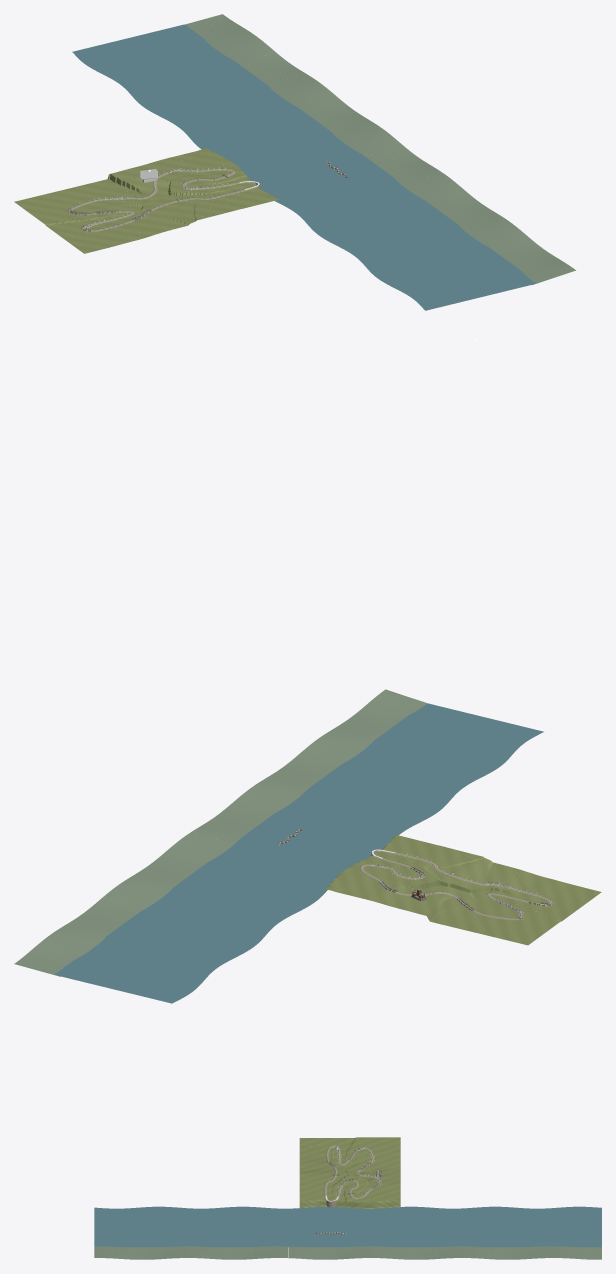
File: quebec.glb
3 views of the same model, one above another, from view 1: azimuth 30°, elevation 25°; view 2: azimuth 150°, elevation 25°; view 3: azimuth 270°, elevation 25° (orthographic). The views are drawn at different scales.
Parts seen in each view (by area): view 1: SaintLawrence, Land_003, Land_010, Land_011, Land_004, Land_005, Land_008, Land_013, Land_001, Land_006, Land_012, Land_009 (+3 smaller); view 2: SaintLawrence, Land_003, Land_010, Land_011, Land_004, Land_005, Land_008, Land_013, Land_001, Land_006, Land_009, Land_002 (+2 smaller); view 3: SaintLawrence, Land_003, Land_010, Land_011, Land_005, Land_004, Land_008, Land_001, Land_013, Land_006, Land_012, Land_009 (+3 smaller).
Part boxes in pixels (x1,y1,x2,y2): SaintLawrence: (72, 24, 535, 310); Land_003: (184, 14, 380, 184); Land_010: (173, 15, 382, 185); Land_011: (169, 129, 575, 284); Land_004: (168, 134, 492, 221); Land_005: (163, 185, 565, 275); Land_008: (14, 175, 130, 225); Land_013: (49, 203, 186, 253); Land_001: (15, 177, 118, 224); Land_006: (76, 198, 190, 251); Land_012: (150, 186, 271, 224); Land_009: (111, 151, 199, 205); SaintLawrence: (54, 703, 543, 1003); Land_003: (14, 839, 408, 976); Land_010: (16, 838, 416, 973); Land_011: (183, 689, 438, 888); Land_004: (190, 755, 439, 888); Land_005: (298, 698, 486, 886); Land_008: (428, 899, 560, 945); Land_013: (466, 863, 599, 920); Land_001: (430, 901, 559, 944); Land_006: (451, 860, 596, 905); Land_009: (336, 880, 474, 918); Land_002: (346, 881, 481, 920); SaintLawrence: (94, 1206, 601, 1247); Land_003: (345, 1184, 601, 1259); Land_010: (345, 1179, 598, 1259); Land_011: (94, 1175, 371, 1259); Land_005: (109, 1172, 347, 1259); Land_004: (214, 1175, 368, 1259); Land_008: (346, 1137, 400, 1170); Land_001: (345, 1137, 400, 1169); Land_013: (299, 1138, 354, 1171); Land_006: (299, 1138, 347, 1173); Land_012: (299, 1169, 347, 1199); Land_009: (346, 1166, 400, 1197).
Bounding box in the file's own units: 3760 × 3126 × 7644.
